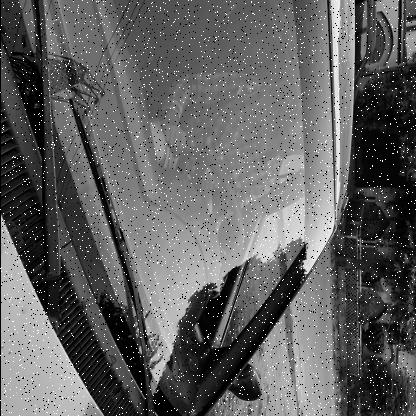no_seatbelt: (182, 84, 312, 184)
